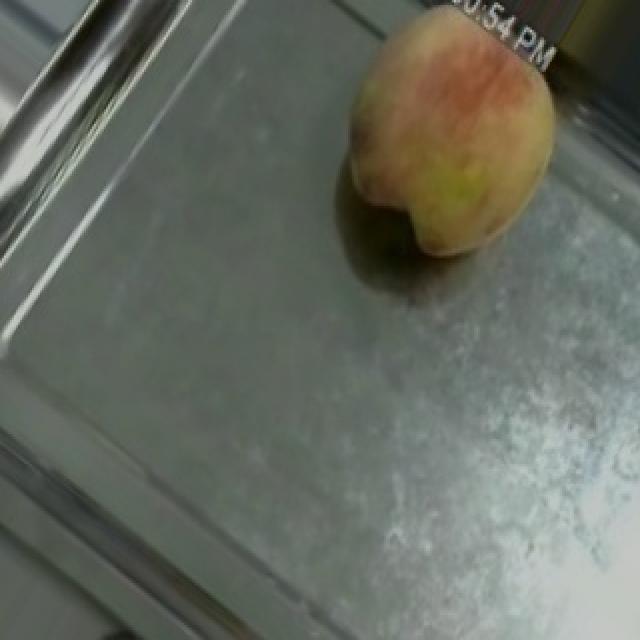Fruit: (300, 0, 598, 293)
